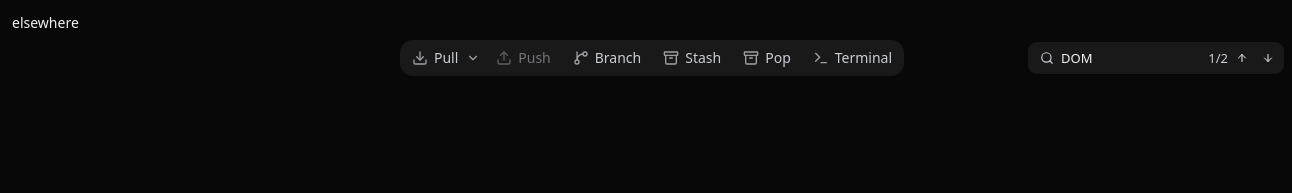
Test case: the search results under the field › Escape and Tab close it from the keyboard
Focus the field with placeholder "Search commits": [1156, 58] box left=1028, top=42, right=1284, bottom=74
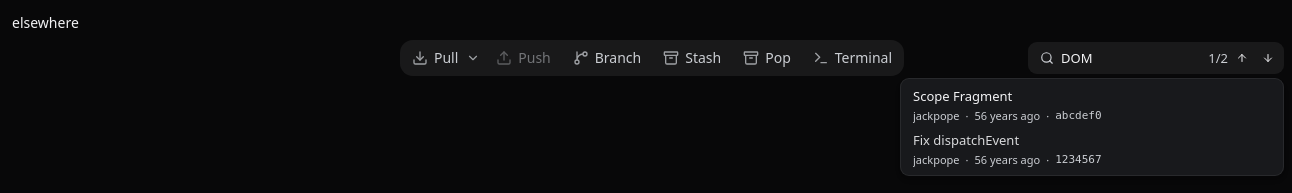
Now the text "Scope Fragment" is shown, box left=913, top=87, right=1012, bottom=105
Press Escape in the field with placeholder "Search commits", box left=1028, top=42, right=1284, bottom=74
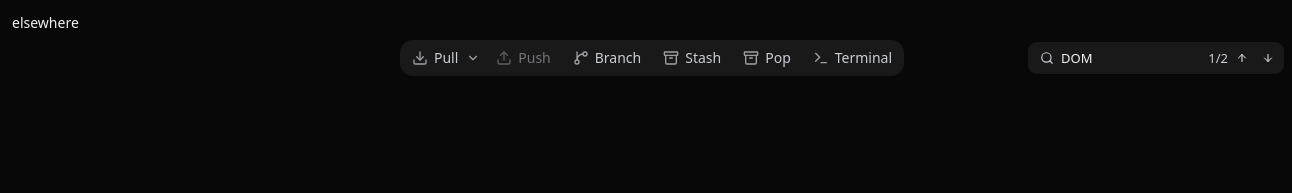
Now the text "Scope Fragment" is gone
Focus the field with placeholder "Search commits": [1156, 58] box left=1028, top=42, right=1284, bottom=74
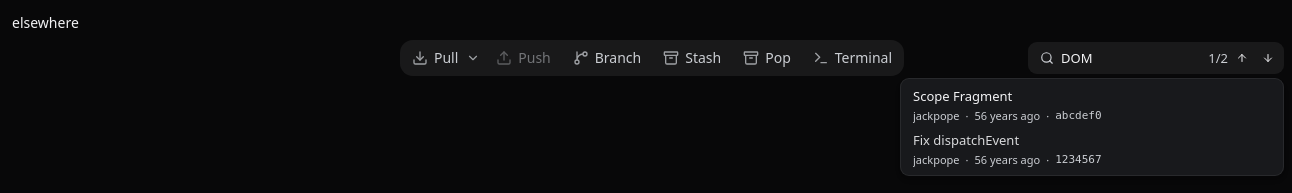
Now the text "Scope Fragment" is shown, box left=913, top=87, right=1012, bottom=105
Press Tab in the field with placeholder "Search commits", box left=1028, top=42, right=1284, bottom=74
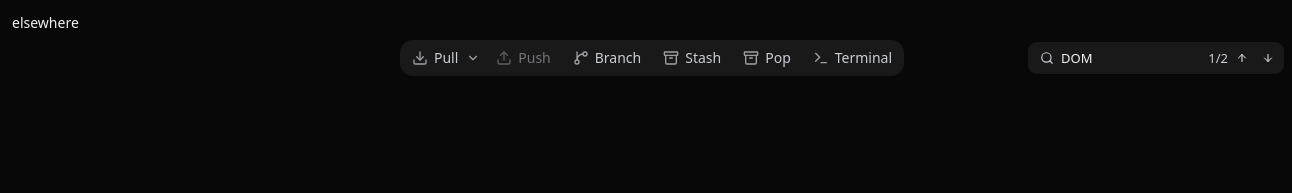
Now the text "Scope Fragment" is gone
